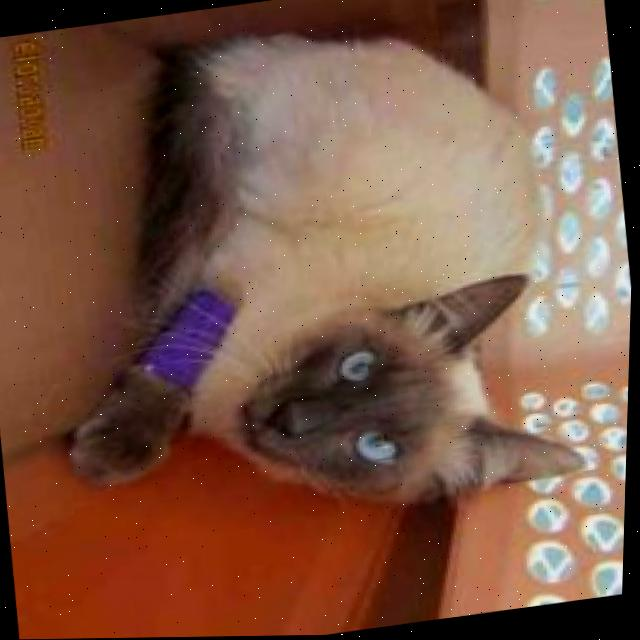Siamese: (14, 0, 612, 552)
